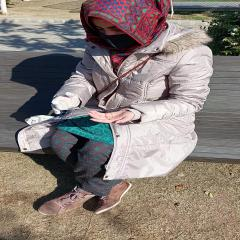gloved: (52, 92, 85, 112)
not-gloved: (86, 110, 132, 123)
